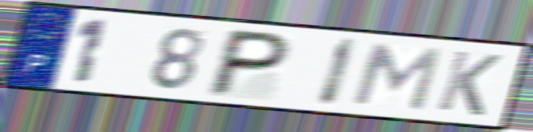1: (73, 18, 109, 86)
8: (148, 26, 207, 92)
I: (314, 35, 361, 110)
K: (433, 48, 506, 119)
M: (347, 41, 446, 114)
P: (201, 27, 296, 99)
